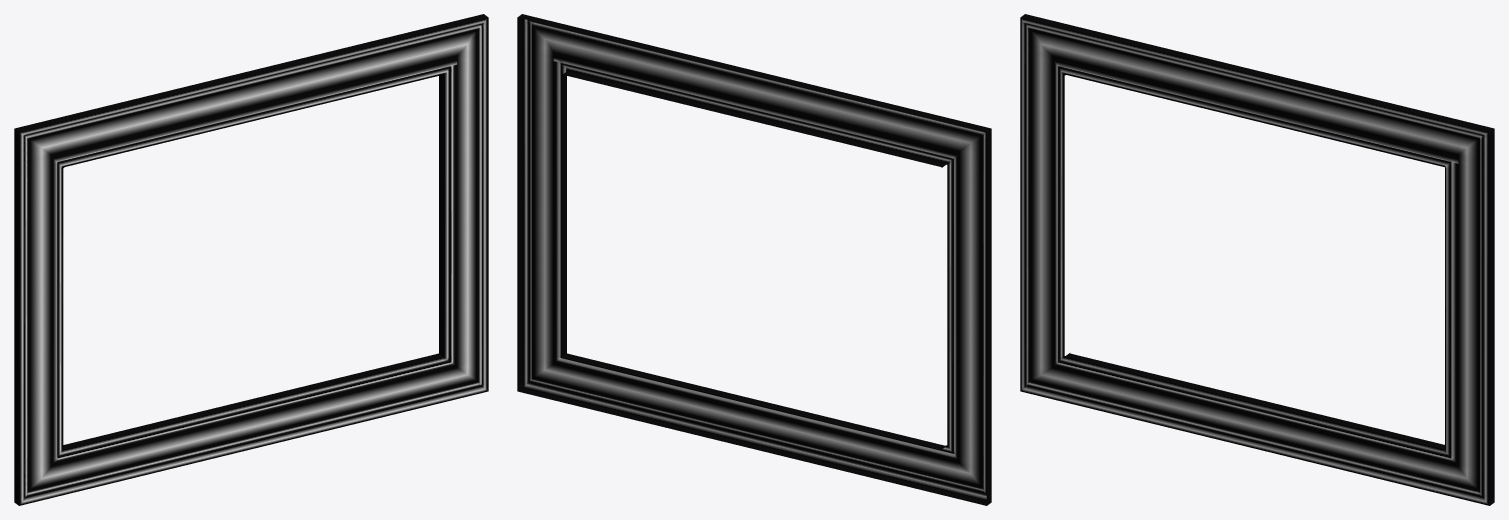
Rendered from picture_frame.FBX.
3 views of the same model, side by side, from view 1: azimuth 30°, elevation 25°; view 2: azimuth 150°, elevation 25°; view 3: azimuth 330°, elevation 25° (orthographic).
Visible parts, largest first — view 1: pictureFrame; view 2: pictureFrame; view 3: pictureFrame.
Boxes of the visible parts, x1,y1,x2,y2 form: pictureFrame: (14, 14, 488, 505); pictureFrame: (517, 14, 991, 505); pictureFrame: (1020, 14, 1494, 505).
Bounding box in the file's own units: 700 × 533 × 15.27.
